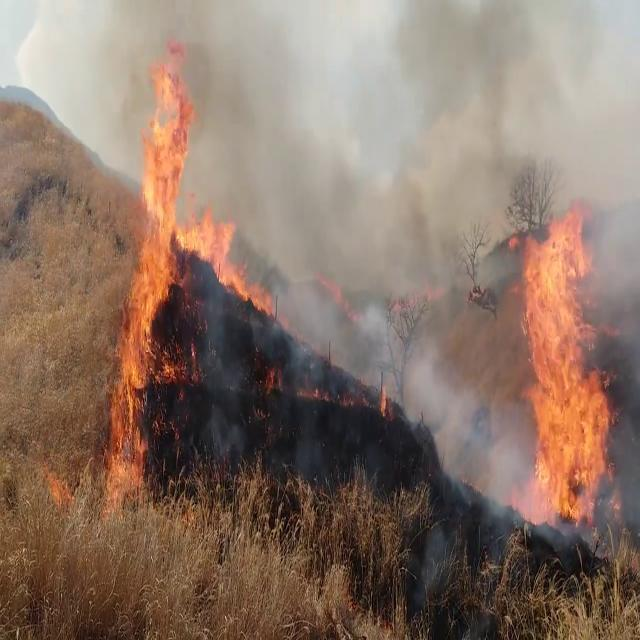Fire: (106, 48, 196, 480), (506, 198, 624, 524), (184, 198, 274, 316)
Smoke: (195, 8, 519, 492)
